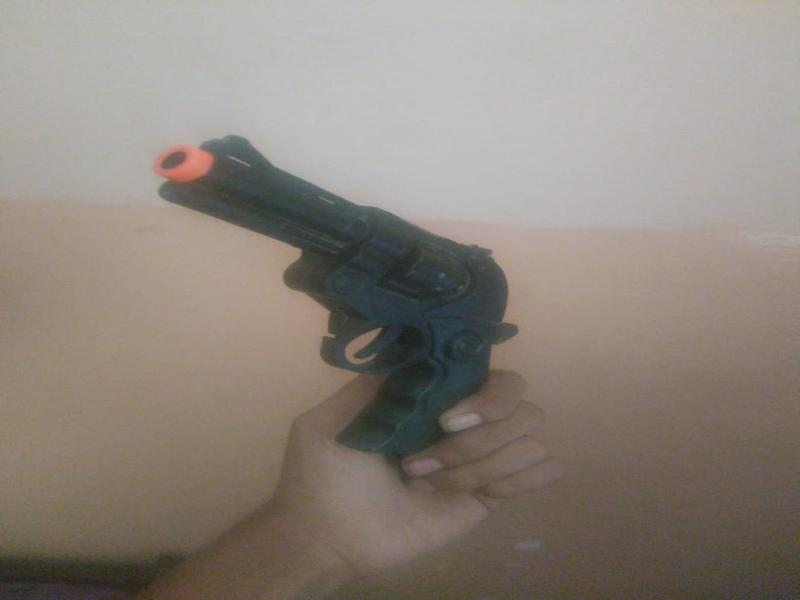gun: (135, 123, 519, 468)
